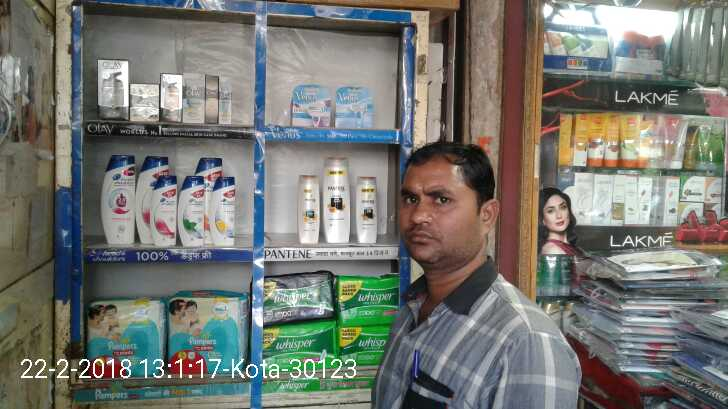venus: (291, 87, 330, 128), (337, 88, 371, 126)
